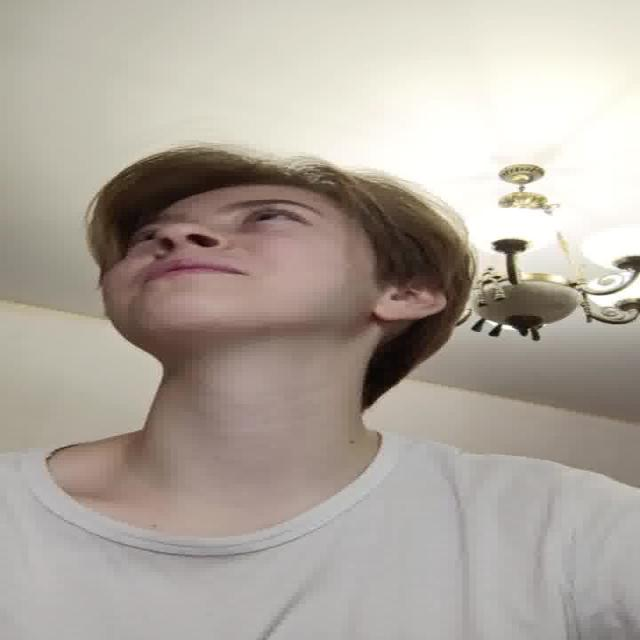earlobe: (376, 299, 414, 322)
eye: (239, 212, 305, 226), (127, 229, 164, 243)
nose: (155, 244, 220, 264)
wholeear: (377, 263, 446, 322)
